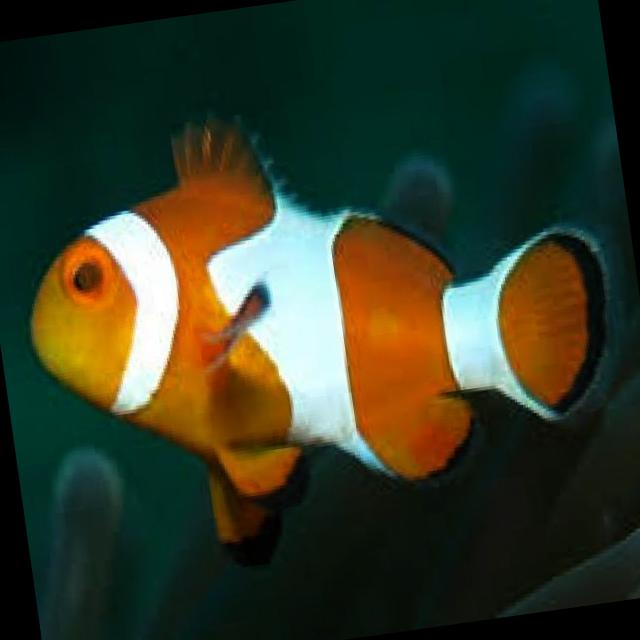ClownFish: (0, 61, 638, 594)
